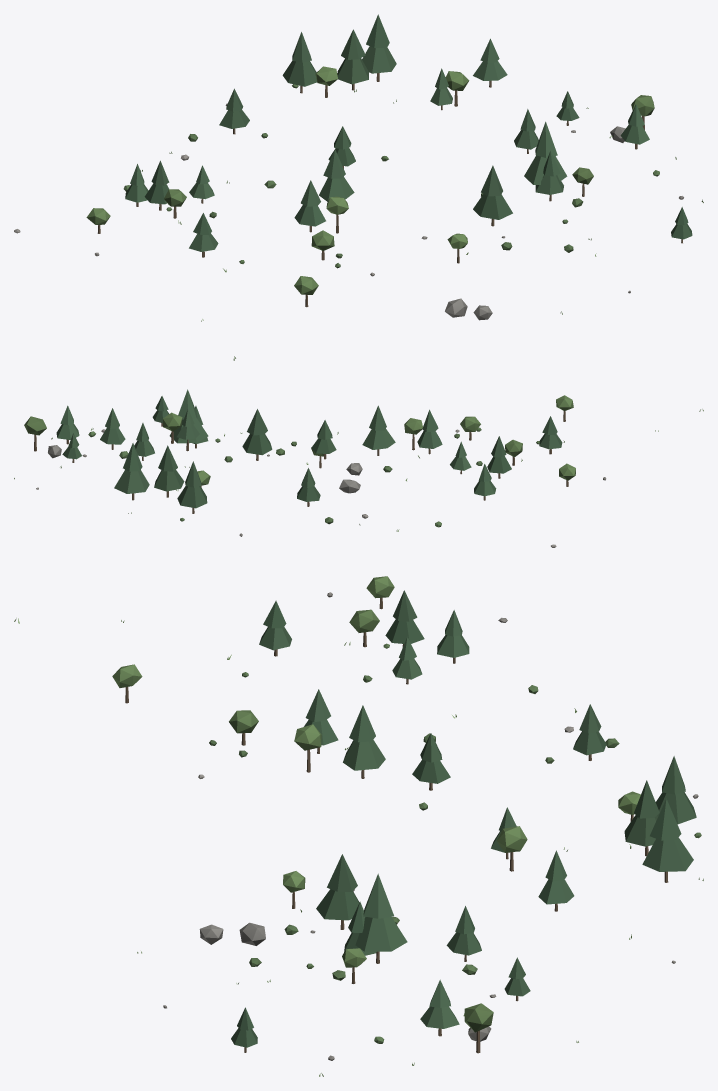
Rendered from arch_land_scatter_c23_18_lod1.glb.
3 renders of one model, top to bottom at view 1: azimuth 30°, elevation 25°; view 2: azimuth 150°, elevation 25°; view 3: azimuth 270°, elevation 25°, orthographic. The views are drawn at different scales.
Visible parts, largest first — view 1: arch_land_scatter_c23_18_lod1; view 2: arch_land_scatter_c23_18_lod1; view 3: arch_land_scatter_c23_18_lod1.
Part boxes in pixels (x1=…): arch_land_scatter_c23_18_lod1: x1=14, y1=14, x2=703, y2=360; arch_land_scatter_c23_18_lod1: x1=14, y1=389, x2=703, y2=547; arch_land_scatter_c23_18_lod1: x1=14, y1=576, x2=703, y2=1076.
Bounding box in the file's own units: 150 × 38.38 × 114.
